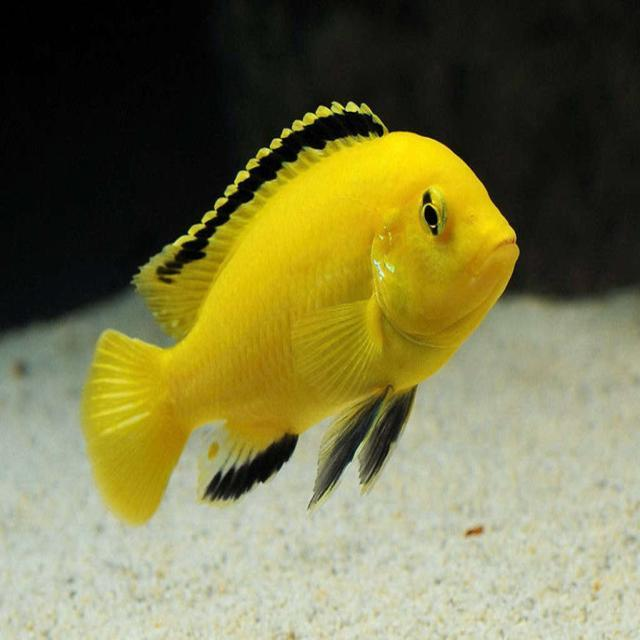YellowCichlid: (63, 86, 519, 506)
